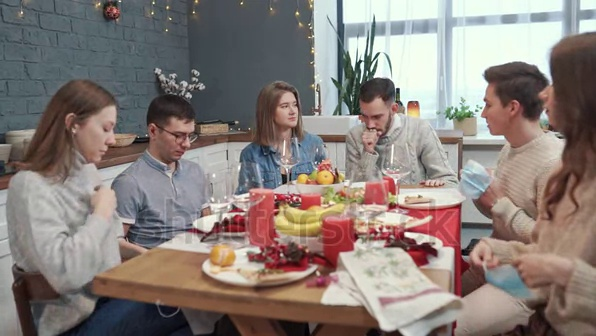No Mask: (468, 58, 552, 148), (50, 75, 121, 167), (144, 94, 201, 172), (257, 82, 315, 150), (356, 77, 403, 146)
